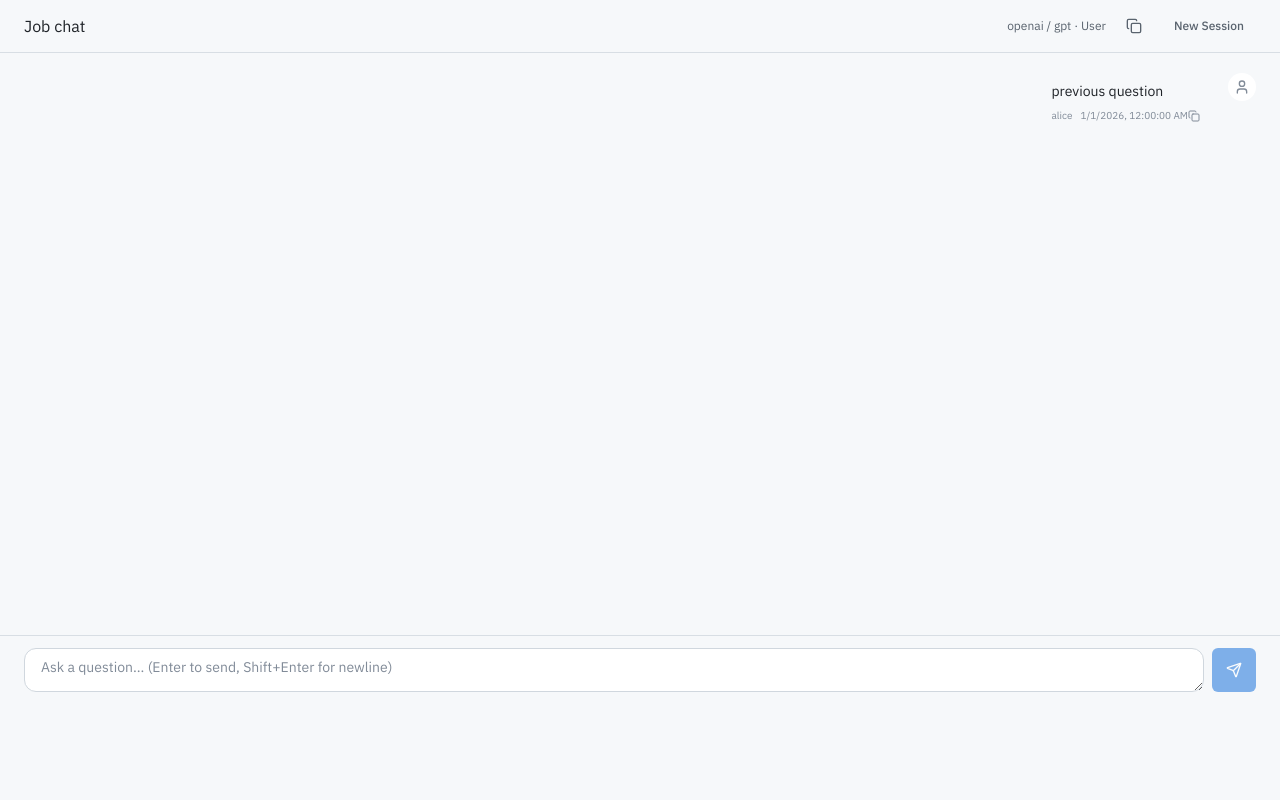
shows existing history before starting and clears explicitly without reinitializing
This screenshot has width=1280, height=800.
Expected: the text "previous question" is shown, [1052, 82, 1163, 100]
Expected: the button "Start Chat" is not shown
Type "followup" into the text box with placeholder "Ask a question... (Enter to send, Shift+Enter for newline)".
click(614, 670); type("followup")  # box [24, 648, 1204, 692]
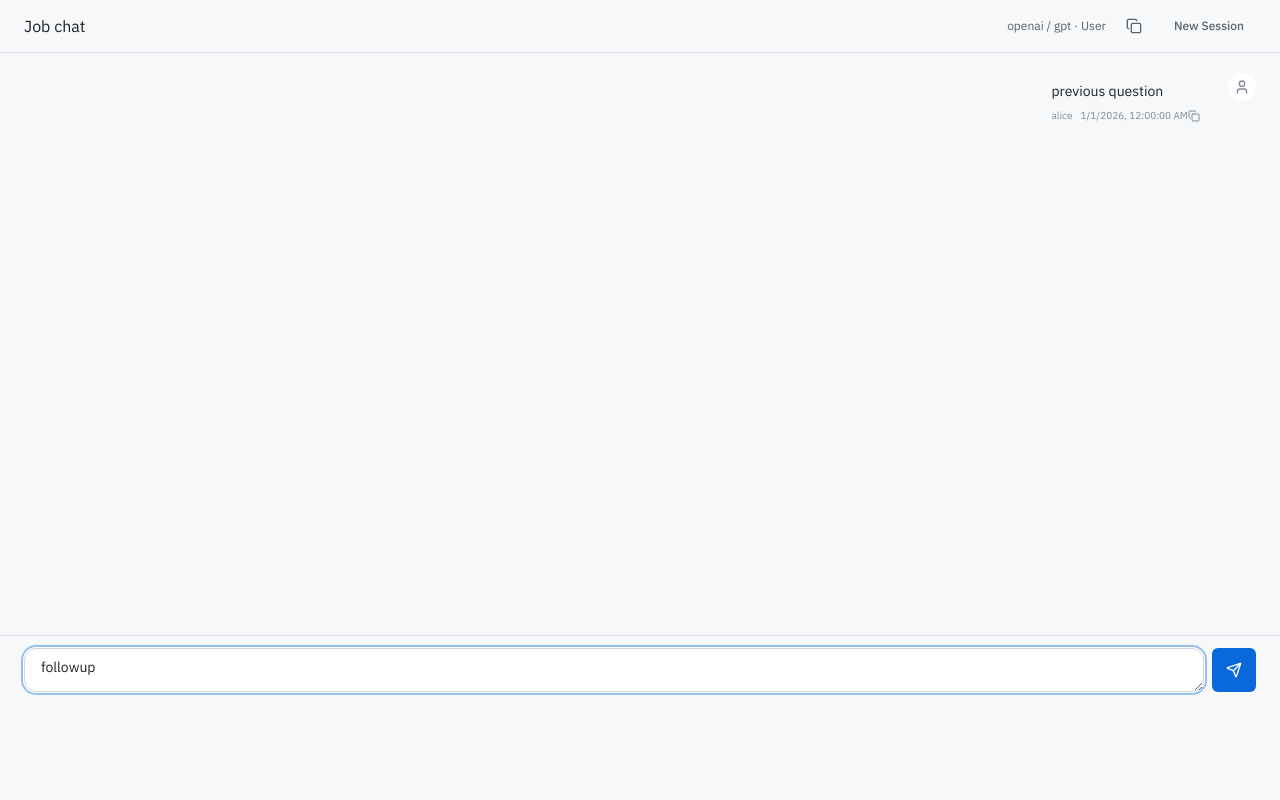
Click the button named "Send message".
click(1234, 670)  # box [1212, 648, 1256, 692]
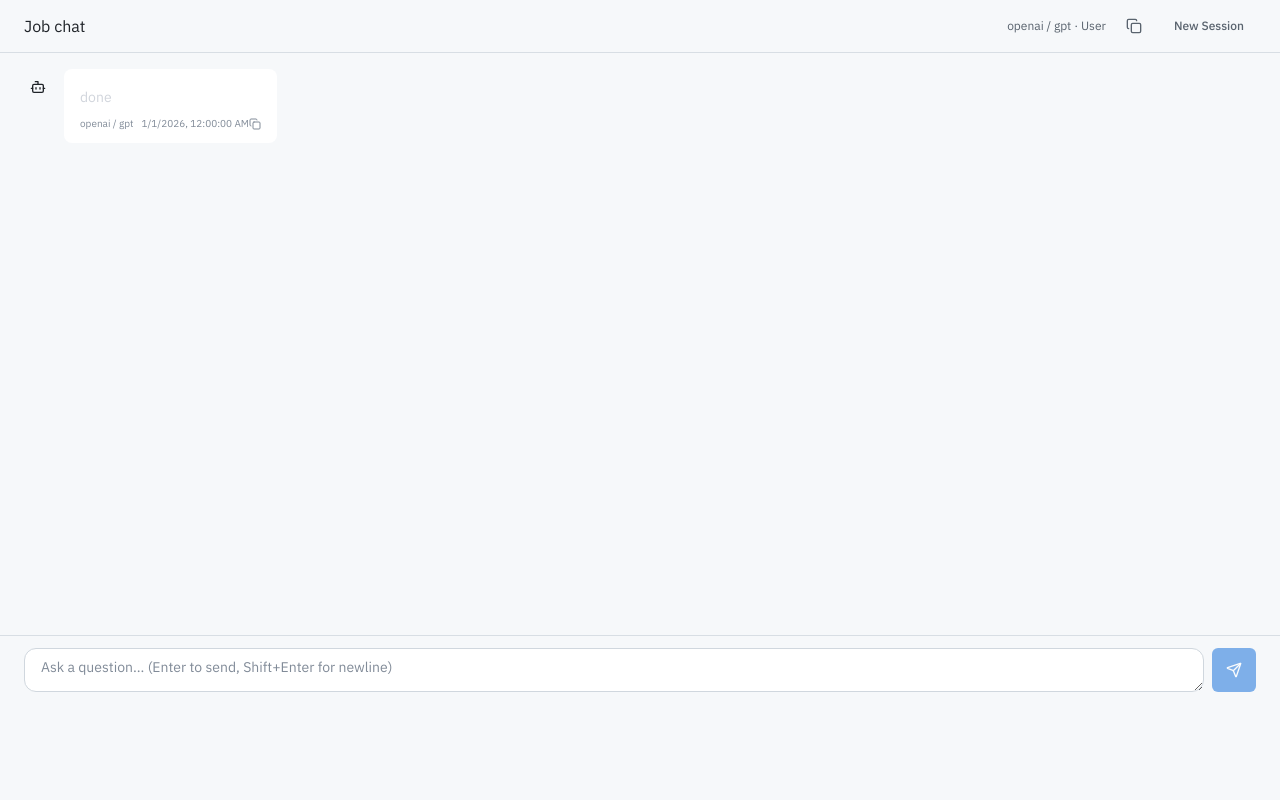
Now the text "done" is shown, box [80, 88, 112, 106]
Click the button "New Session".
click(1209, 26)  # box [1162, 12, 1256, 40]
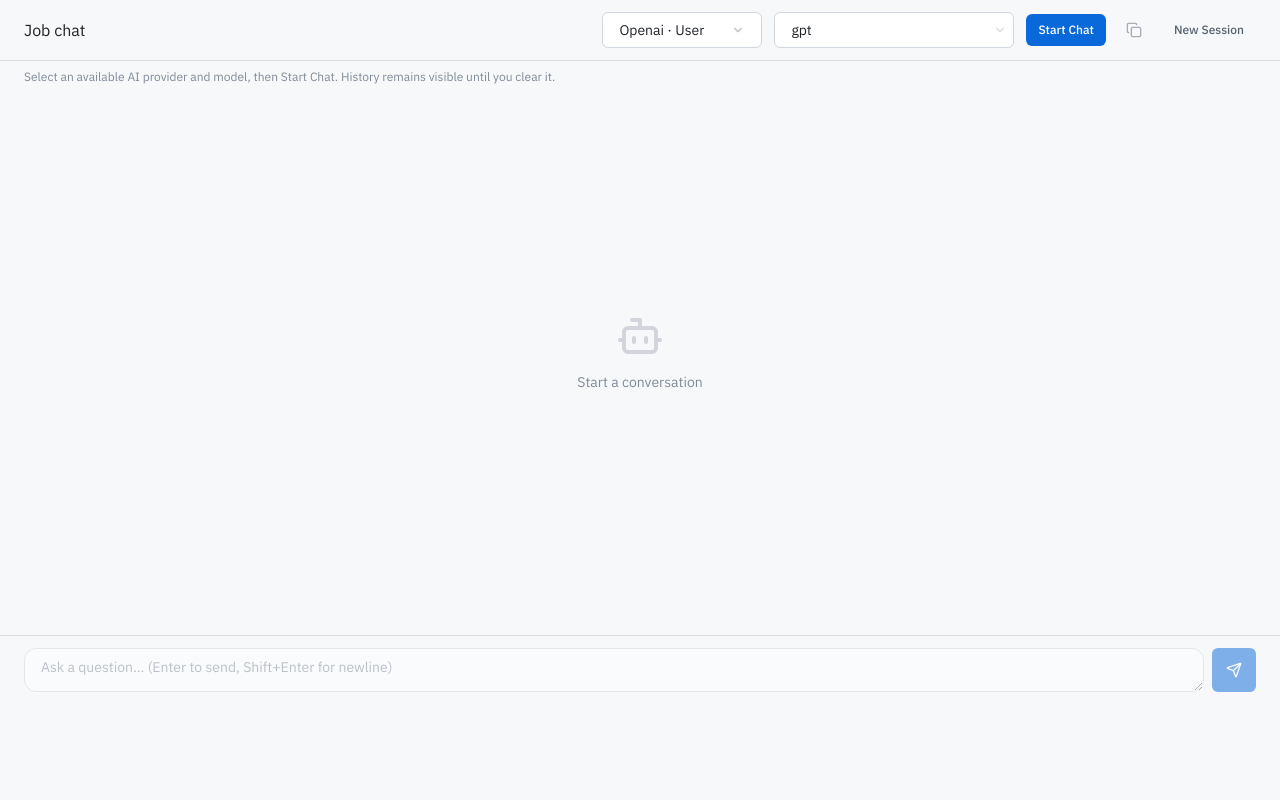
Now the dropdown named "AI Provider" is enabled, box [602, 12, 762, 48]
Now the button "Start Chat" is enabled, box [1026, 14, 1106, 46]
